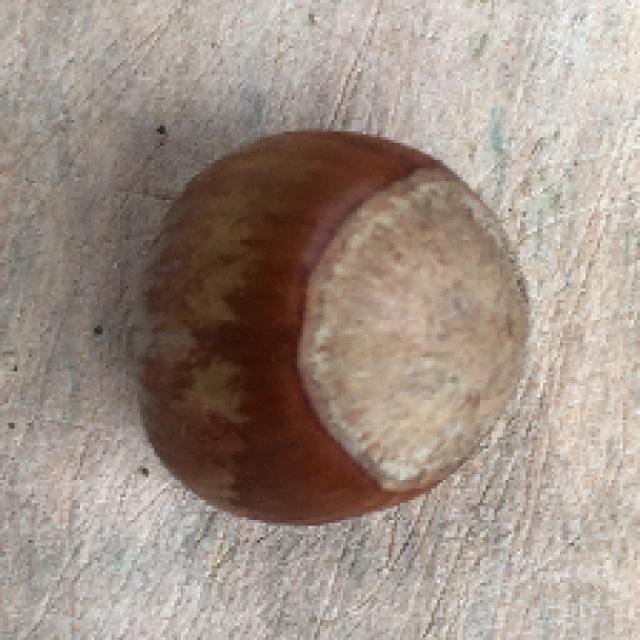qualityHazelnut: (124, 123, 532, 524)
